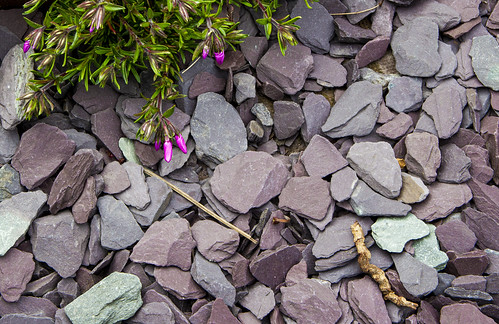flowers: (22, 1, 307, 155)
rocks: (1, 1, 495, 321)
